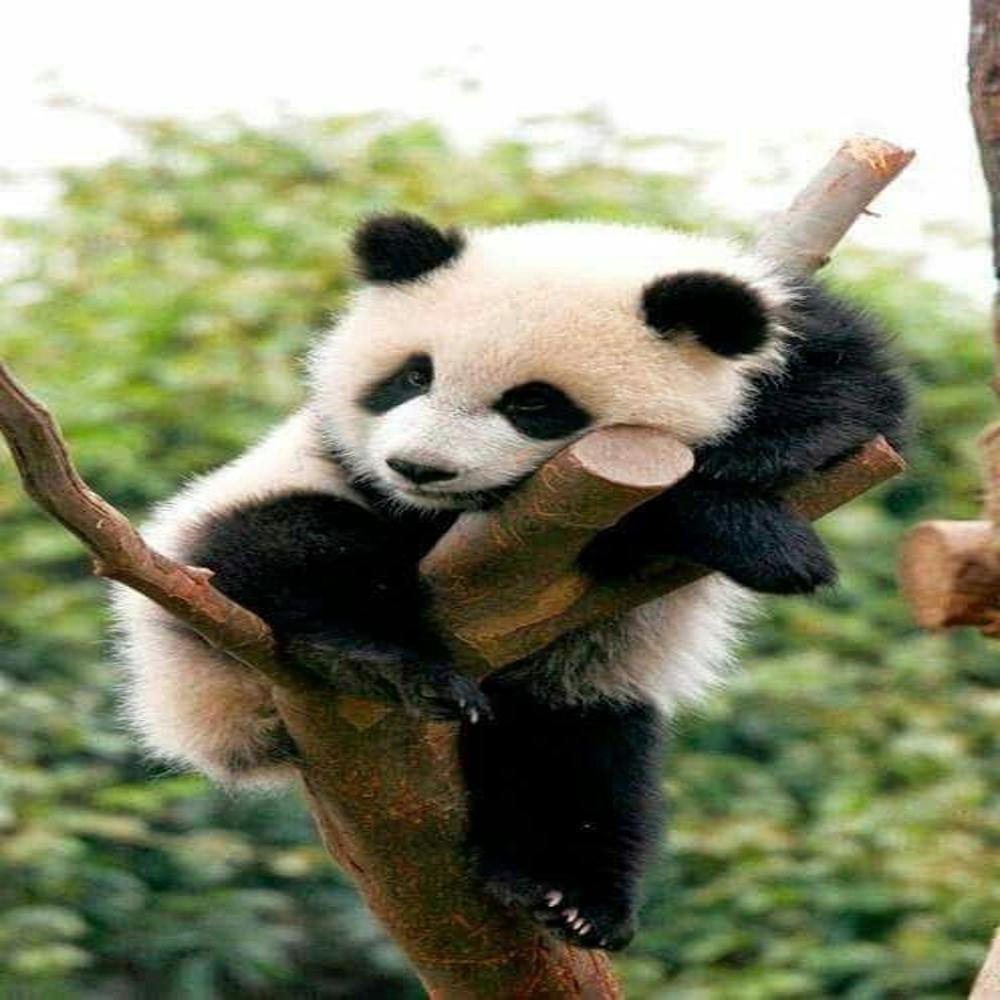panda: (102, 204, 907, 943)
